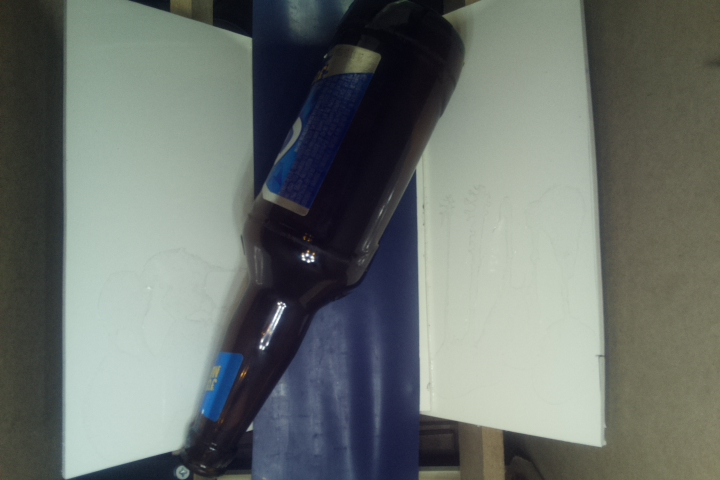makju: (166, 1, 467, 477)
